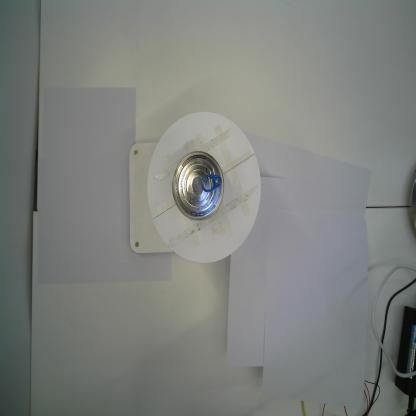Canned Food: (171, 148, 225, 223)
